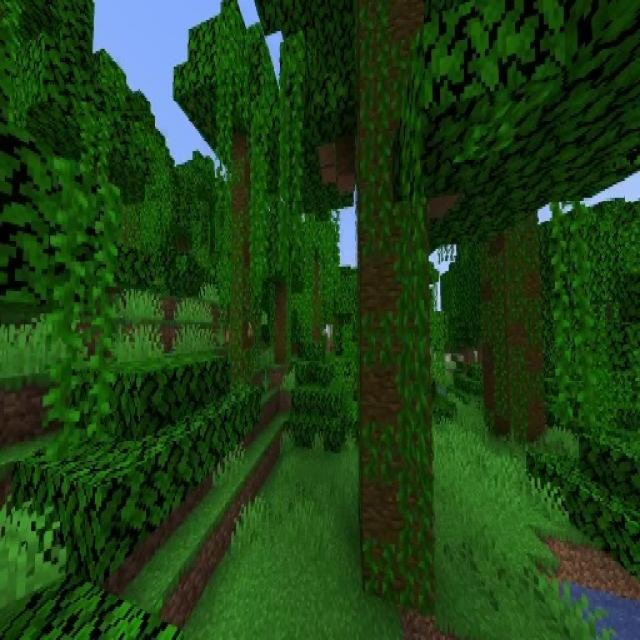jungle: (180, 1, 283, 374)
jungle_log: (359, 3, 436, 610), (484, 237, 546, 438), (231, 135, 258, 375), (274, 276, 291, 362)
